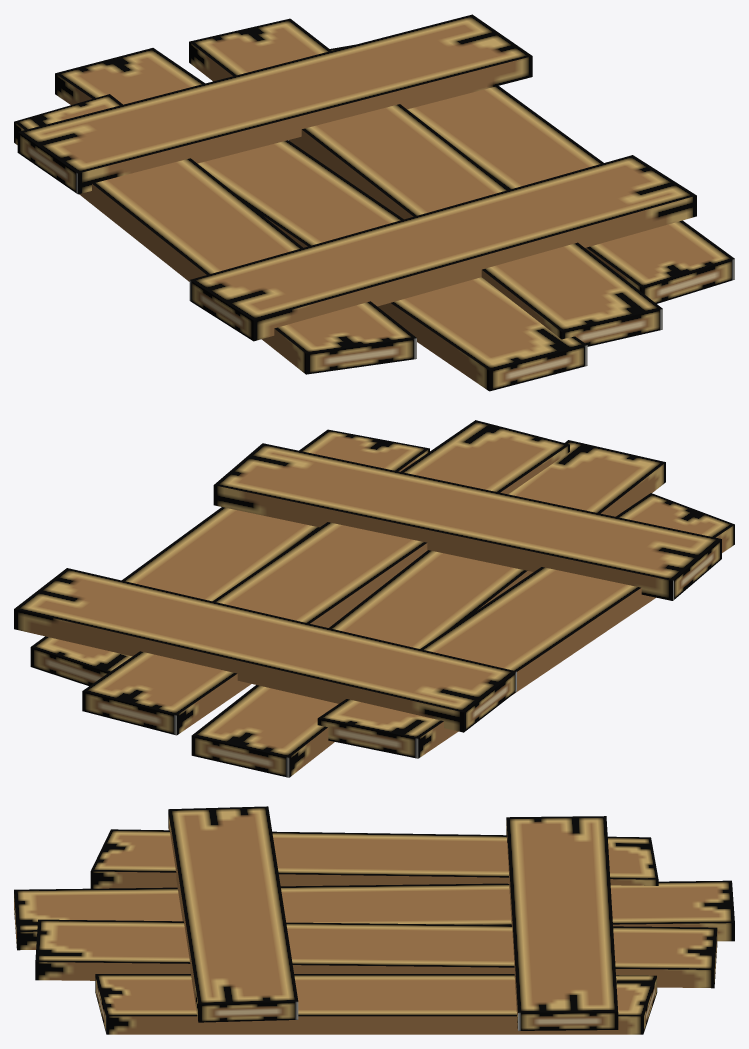
File: deco_woodPlanks.FBX
3 renders of one model, top to bottom at view 1: azimuth 30°, elevation 25°; view 2: azimuth 150°, elevation 25°; view 3: azimuth 270°, elevation 25°, orthographic. The views are drawn at different scales.
Parts seen in each view (by area): view 1: deco_woodPlanks; view 2: deco_woodPlanks; view 3: deco_woodPlanks.
Boxes of the visible parts, bbox=[...] form: deco_woodPlanks: bbox=[14, 14, 734, 391]; deco_woodPlanks: bbox=[14, 420, 734, 777]; deco_woodPlanks: bbox=[14, 806, 734, 1034].
Bounding box in the file's own units: 2.44 × 0.2 × 3.6.
Materials: 1 (1 with a texture image).
